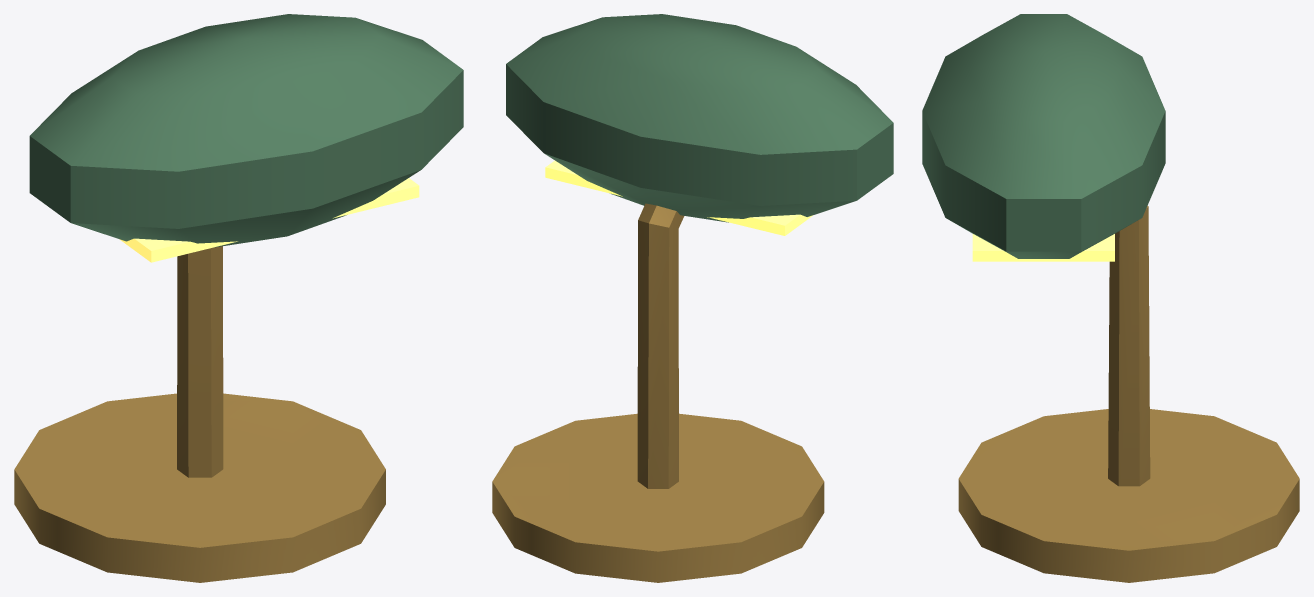
The model's file is lamp_bankerGreen.glb.
3 views of the same model, side by side, from view 1: azimuth 30°, elevation 25°; view 2: azimuth 150°, elevation 25°; view 3: azimuth 270°, elevation 25° (orthographic). The views are drawn at different scales.
Visible parts, largest first — view 1: lamp_bankerGreen, bulb; view 2: lamp_bankerGreen, bulb; view 3: lamp_bankerGreen, bulb.
Part boxes in pixels (<box>): lamp_bankerGreen: <box>14,14,463,582</box>; bulb: <box>119,178,419,262</box>; lamp_bankerGreen: <box>492,14,893,582</box>; bulb: <box>545,160,813,235</box>; lamp_bankerGreen: <box>922,14,1299,582</box>; bulb: <box>972,234,1114,261</box>.
Bounding box in the file's own units: 0.4249 × 0.5162 × 0.3851.
